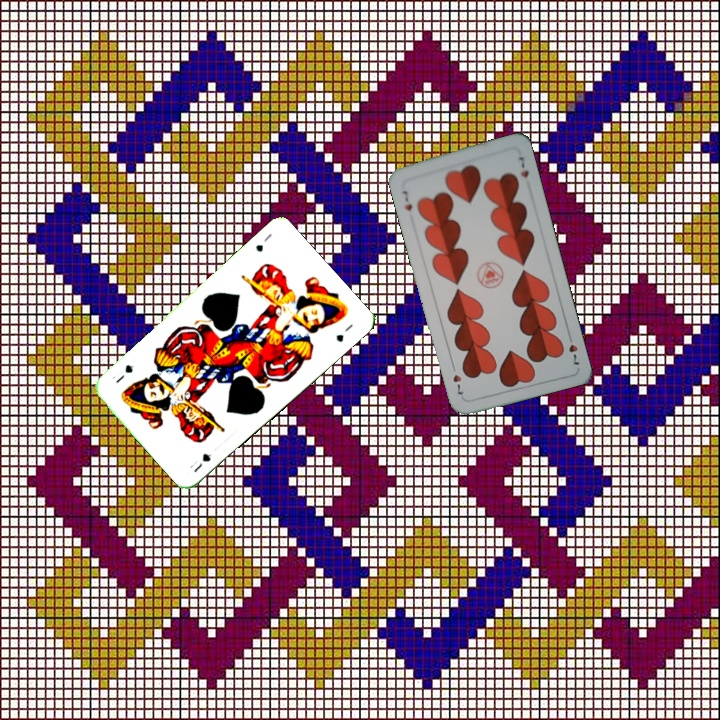GU: (185, 449, 214, 475), (251, 229, 274, 255)
H7: (563, 329, 582, 369), (399, 187, 415, 213)
